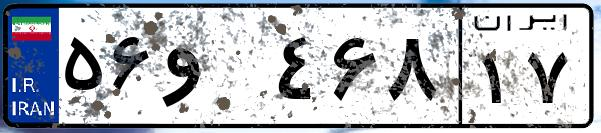1: (475, 38, 525, 113)
4: (270, 28, 330, 110)
5: (57, 26, 110, 100)
6: (330, 28, 385, 110), (110, 28, 158, 98)
7: (525, 38, 570, 115)
8: (385, 28, 445, 110)
و: (158, 20, 270, 120)
